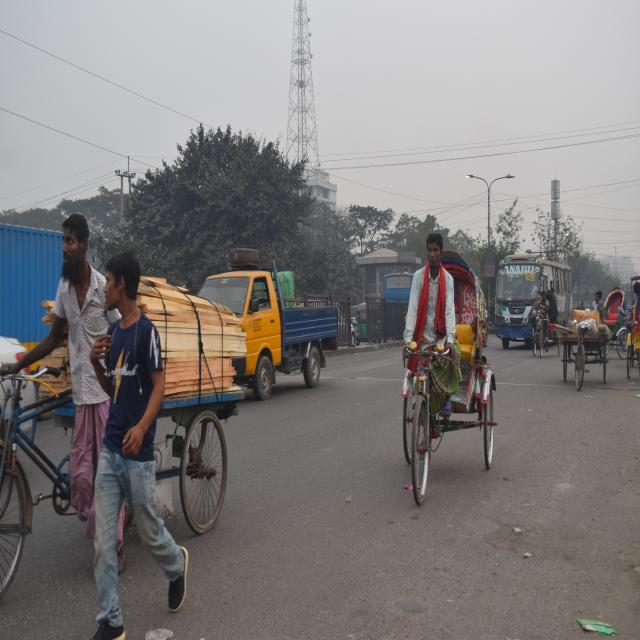bus: (494, 249, 570, 339)
pickup-van: (207, 263, 337, 403)
